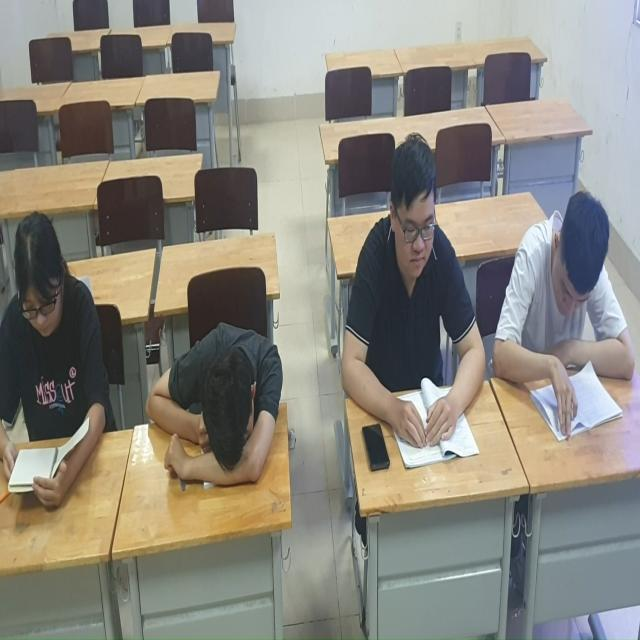read: (344, 89, 476, 449), (486, 156, 635, 438), (1, 204, 128, 502)
sleep: (144, 283, 294, 513)
